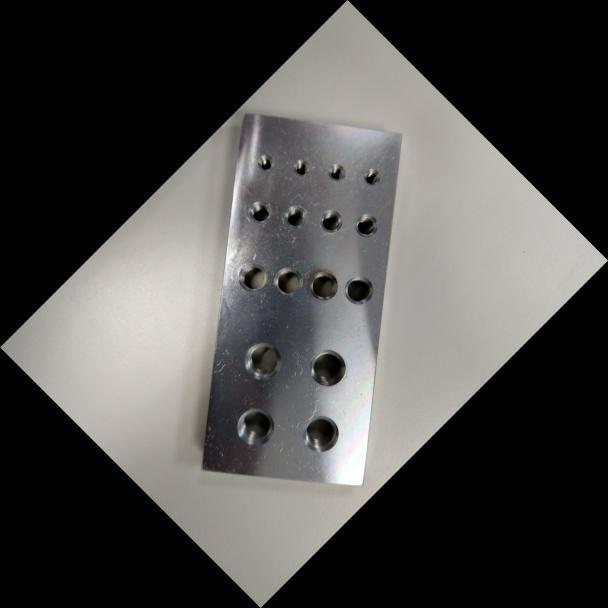hole: (235, 333, 290, 389), (227, 399, 283, 454), (293, 407, 347, 461), (301, 341, 353, 394), (302, 264, 345, 307), (337, 269, 380, 311), (231, 256, 273, 298), (267, 260, 309, 301), (278, 199, 313, 234), (314, 204, 347, 238), (243, 195, 276, 228), (350, 209, 383, 242), (252, 149, 279, 175), (323, 159, 350, 185), (289, 155, 313, 180), (359, 165, 384, 189)
